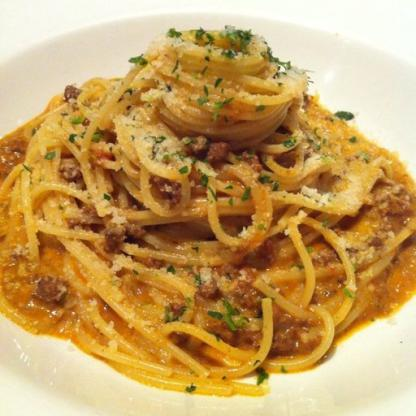pasta: (12, 28, 406, 393)
